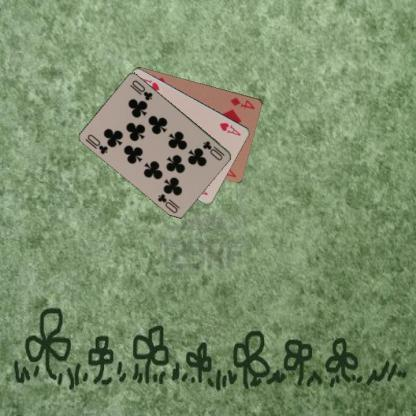10c: (82, 131, 110, 156), (200, 138, 226, 162)
4d: (228, 95, 256, 110)
Ah: (217, 120, 242, 138)
